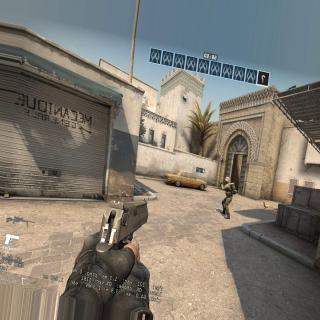CT-Body: (220, 173, 238, 213)
CT-Head: (226, 177, 230, 185)
